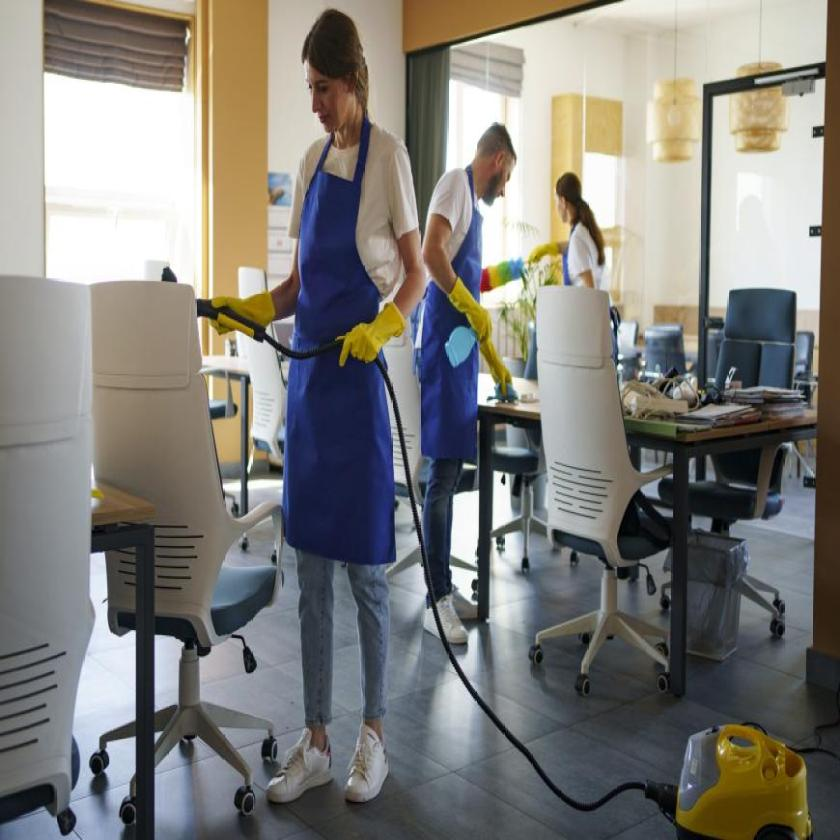Sin_casco: (301, 4, 374, 140), (471, 117, 520, 214), (554, 168, 585, 229)
